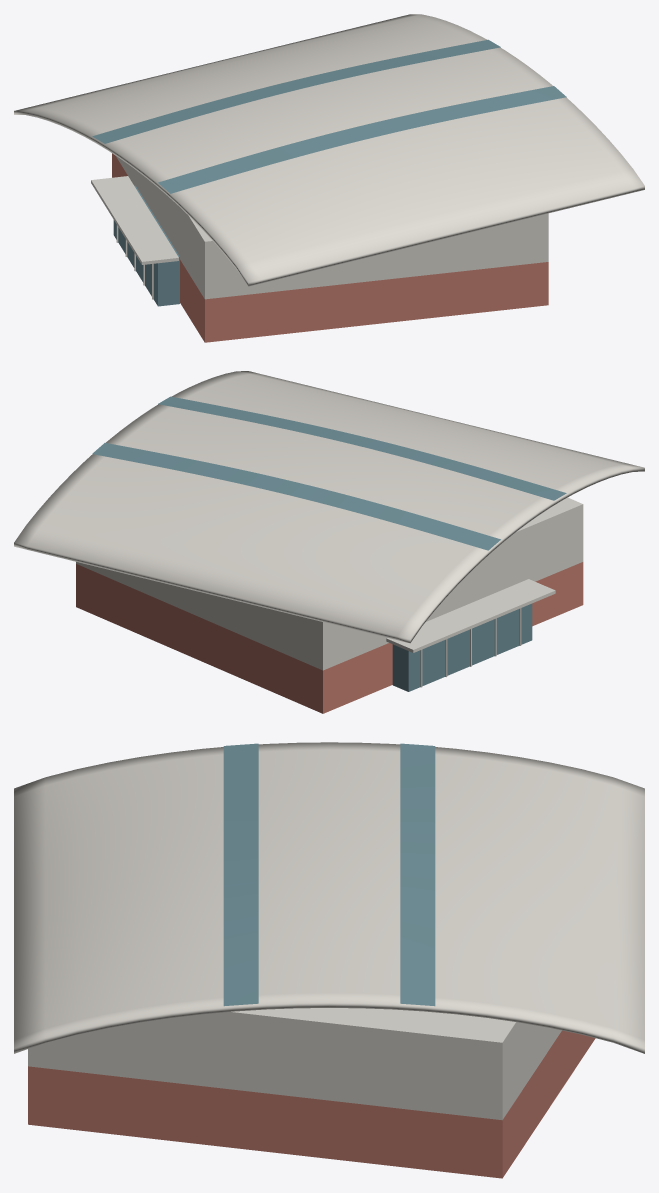
File: shaw.glb
The picture shows the model from 3 angles, top to bottom: view 1: azimuth 30°, elevation 25°; view 2: azimuth 150°, elevation 25°; view 3: azimuth 270°, elevation 25°; orthographic projection. The views are drawn at different scales.
Parts seen in each view (by area): view 1: SHAW_vault, SHAW_plinth, SHAW_hall, SHAW_vault_glass_-28, SHAW_vault_glass_28, SHAW_canopy, SHAW_atrium; view 2: SHAW_vault, SHAW_plinth, SHAW_hall, SHAW_vault_glass_28, SHAW_atrium, SHAW_vault_glass_-28, SHAW_canopy, SHAW_band; view 3: SHAW_vault, SHAW_hall, SHAW_plinth, SHAW_vault_glass_28, SHAW_vault_glass_-28, SHAW_band.
Boxes of the visible parts, x1,y1,x2,y2 form: SHAW_vault: (14, 14, 644, 286); SHAW_plinth: (112, 153, 548, 342); SHAW_hall: (116, 156, 548, 299); SHAW_vault_glass_-28: (158, 86, 566, 193); SHAW_vault_glass_28: (92, 39, 500, 143); SHAW_canopy: (91, 176, 178, 264); SHAW_atrium: (113, 185, 179, 306); SHAW_vault: (14, 371, 644, 643); SHAW_plinth: (76, 562, 583, 713); SHAW_hall: (76, 505, 583, 670); SHAW_vault_glass_28: (92, 443, 500, 550); SHAW_atrium: (392, 603, 532, 691); SHAW_vault_glass_-28: (158, 396, 566, 500); SHAW_canopy: (386, 579, 555, 652); SHAW_band: (508, 497, 583, 538); SHAW_vault: (14, 742, 644, 1053); SHAW_hall: (28, 1012, 561, 1120); SHAW_plinth: (28, 1030, 595, 1178); SHAW_vault_glass_28: (400, 743, 435, 1006); SHAW_vault_glass_-28: (223, 743, 258, 1006); SHAW_band: (212, 1008, 518, 1046).
Size of the model in its own units: 53.74 by 18.1 by 53.9.
